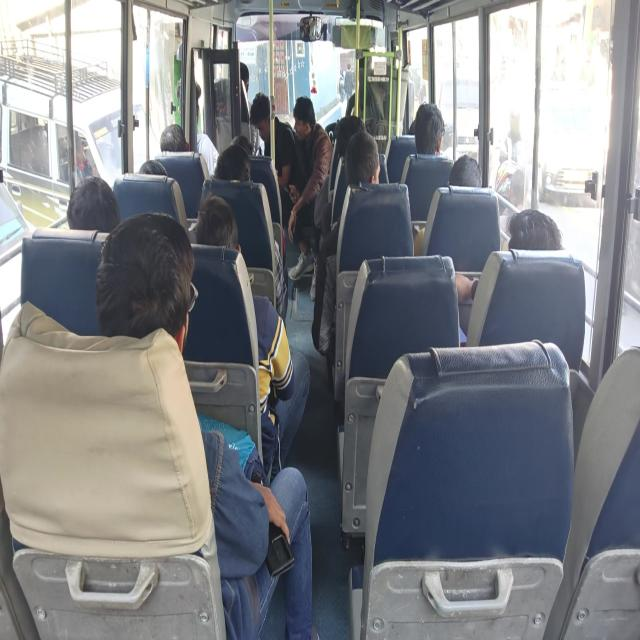person: (136, 230, 197, 353), (509, 220, 563, 274), (199, 200, 242, 258), (68, 186, 113, 238), (214, 137, 247, 200), (352, 42, 387, 94), (134, 153, 170, 197), (455, 158, 500, 193), (159, 114, 193, 160), (250, 95, 279, 142), (422, 102, 445, 158), (292, 99, 319, 145), (353, 147, 381, 191), (337, 121, 364, 165), (174, 72, 200, 114), (232, 59, 250, 97), (230, 126, 252, 154)
